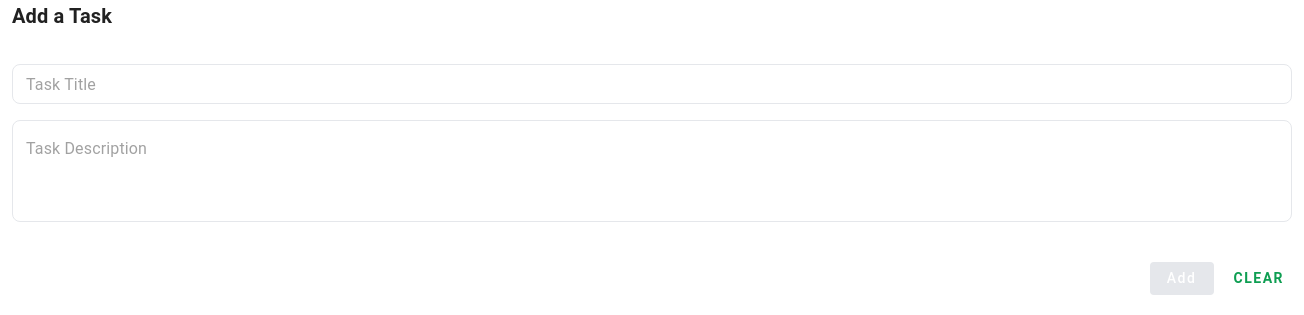
Test: AddTaskForm › Add button should be enabled when both fields have values
Type "Test Task" into the field with placeholder "Task Title" at (652, 84), box [12, 64, 1292, 104]
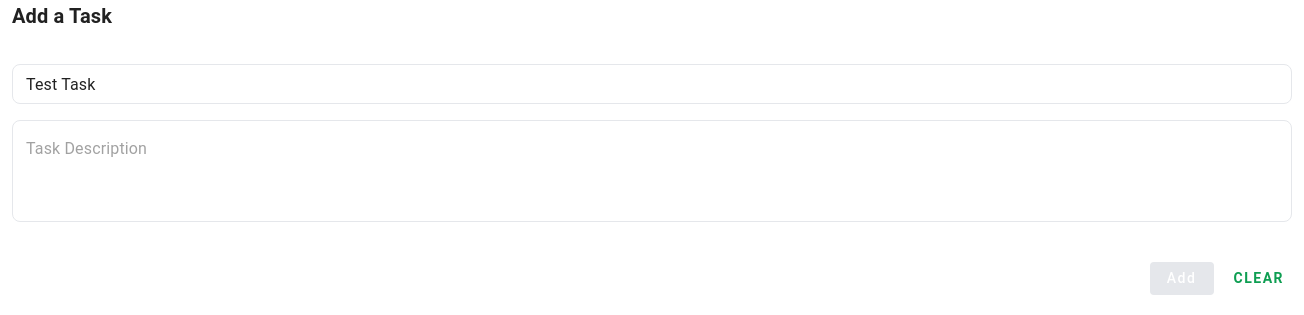
Type "Test Description" into the text box with placeholder "Task Description" at (652, 171), box [26, 136, 1278, 206]
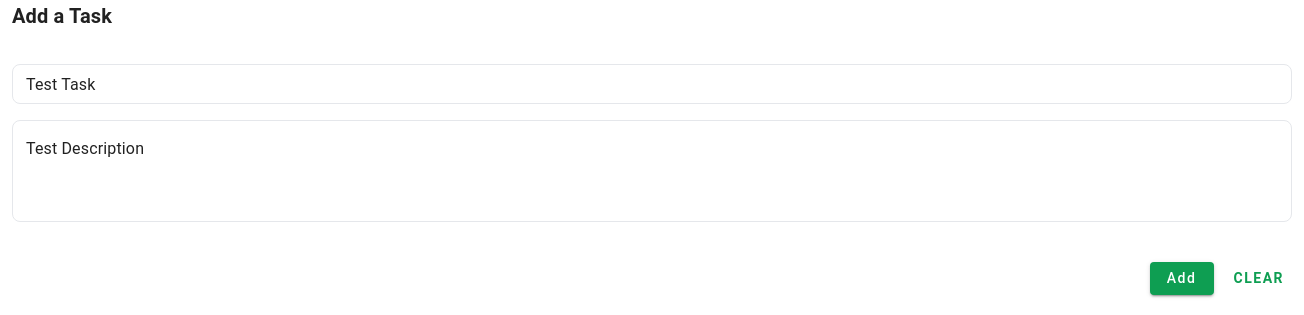
Check: the button "Add" is enabled, box [1150, 262, 1214, 295]
